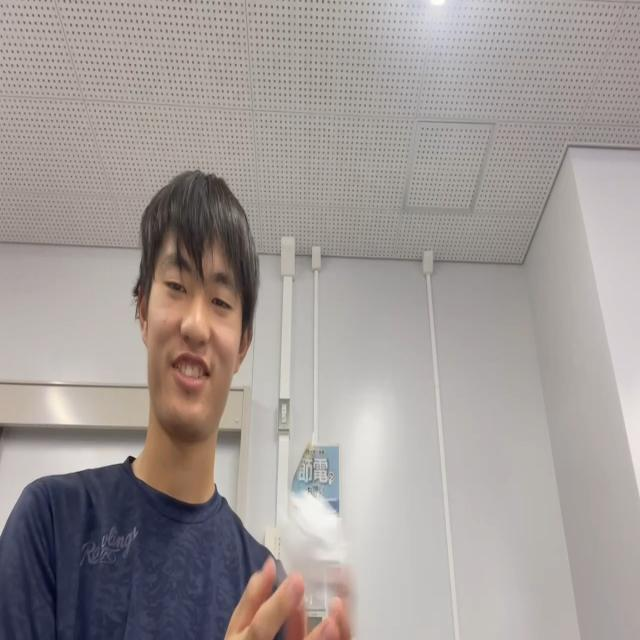paper: (281, 491, 355, 607)
